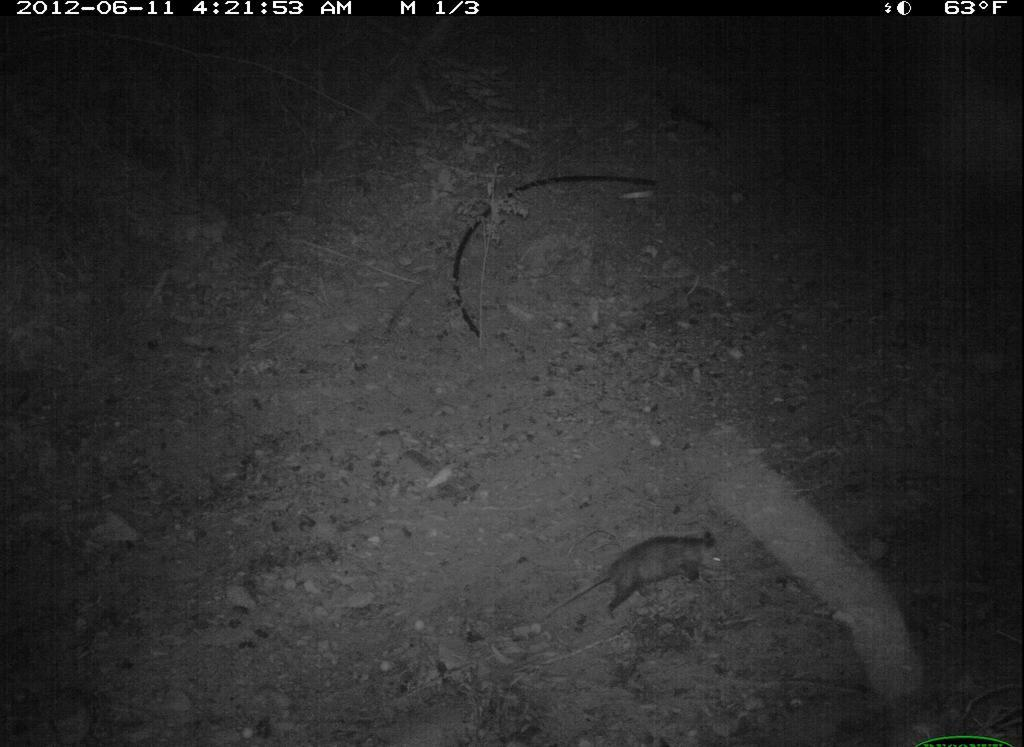opossum: (551, 524, 728, 615)
